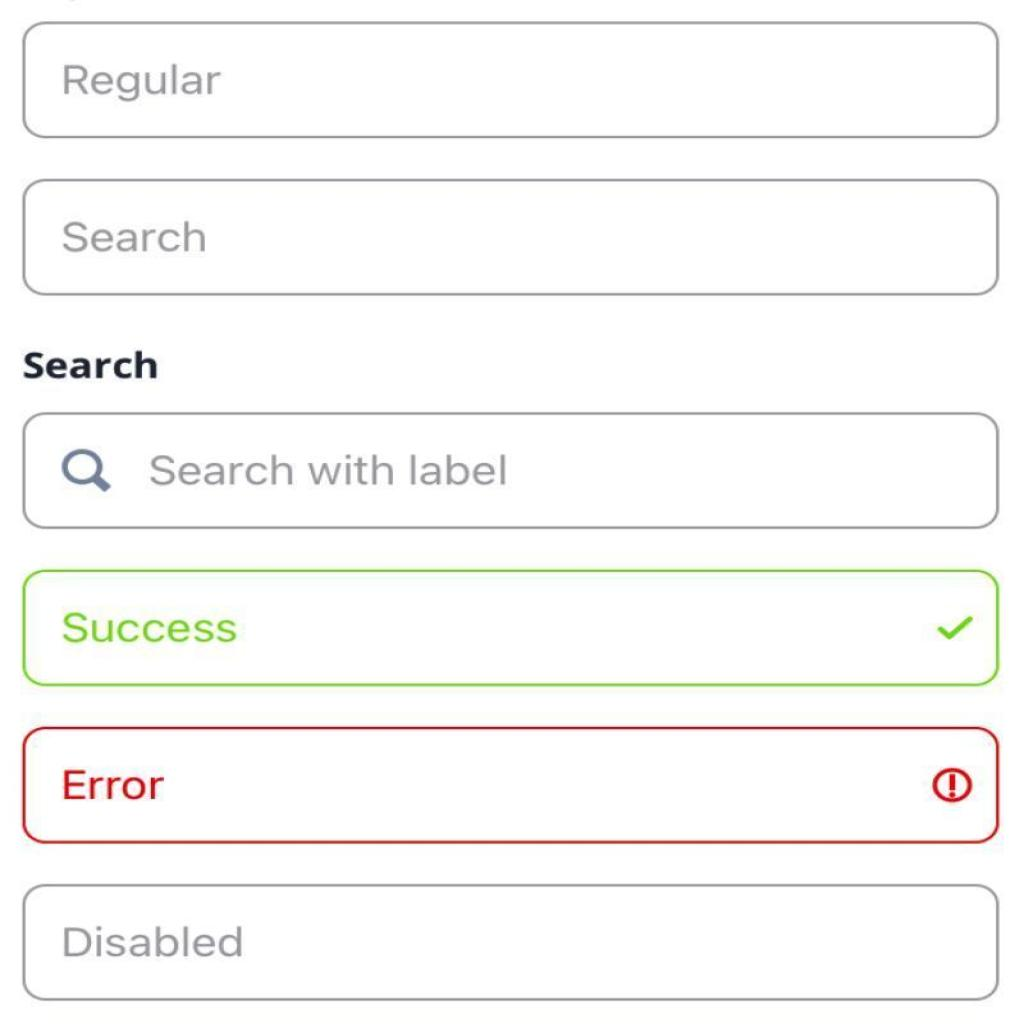input: (20, 407, 1001, 532), (24, 179, 996, 301), (21, 568, 997, 689), (20, 20, 1000, 139), (24, 726, 1000, 845), (19, 886, 1001, 1001)
label: (23, 346, 169, 391)
